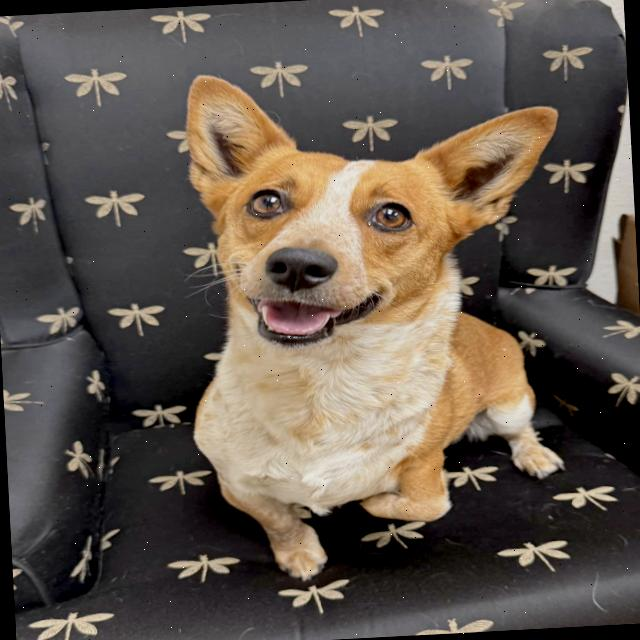corgi_dog: (163, 51, 581, 364)
